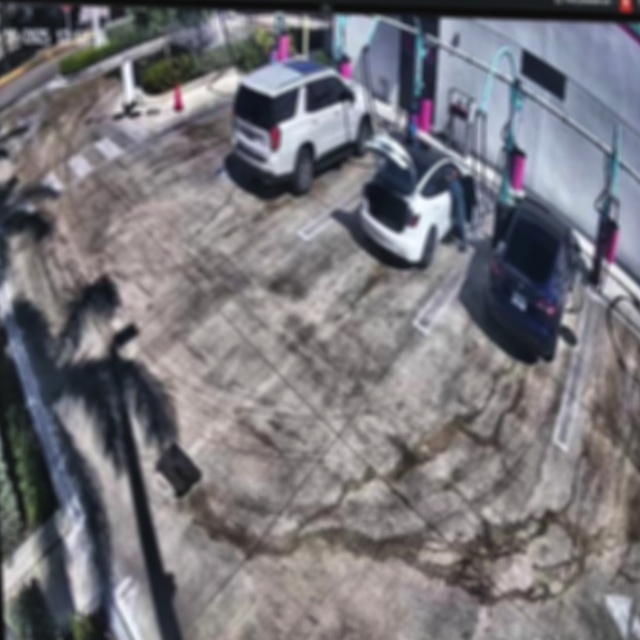Car: (225, 64, 374, 198), (355, 128, 479, 272), (490, 193, 579, 364)
